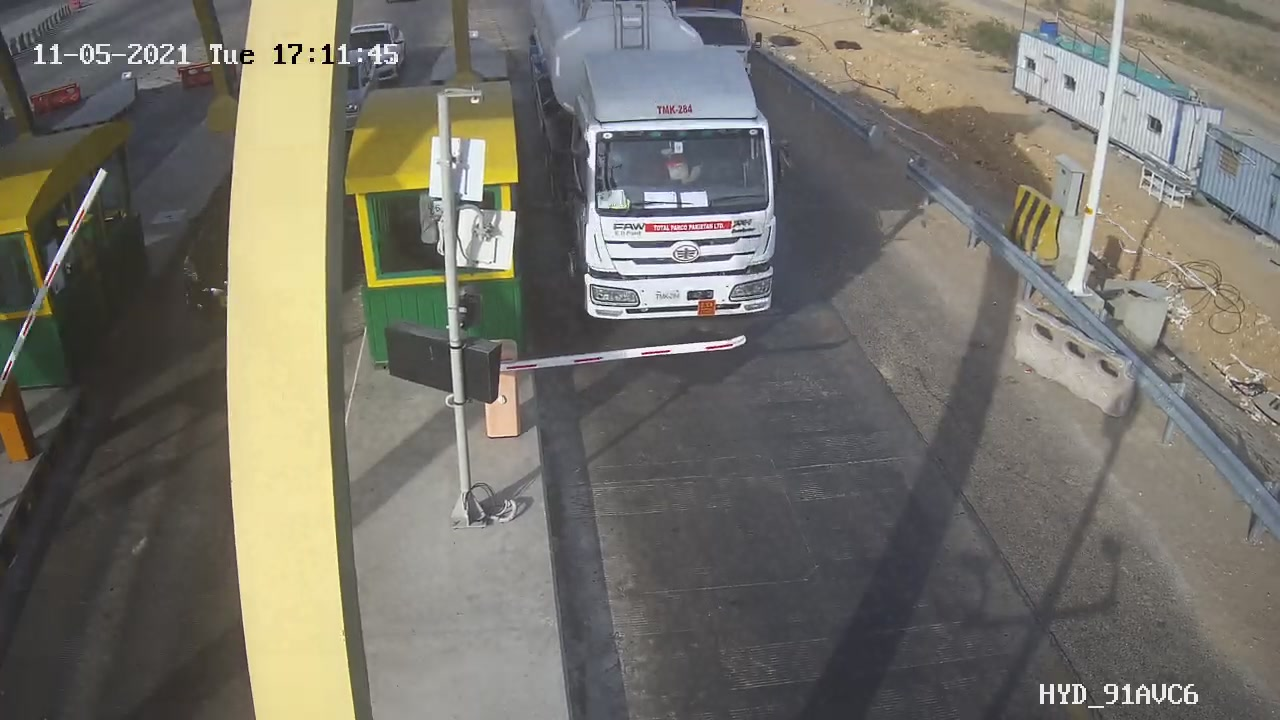F6: (511, 1, 822, 342)
